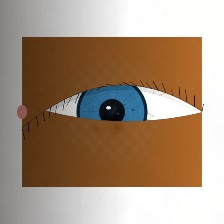pinguecula_lesion: (167, 110, 196, 134)
